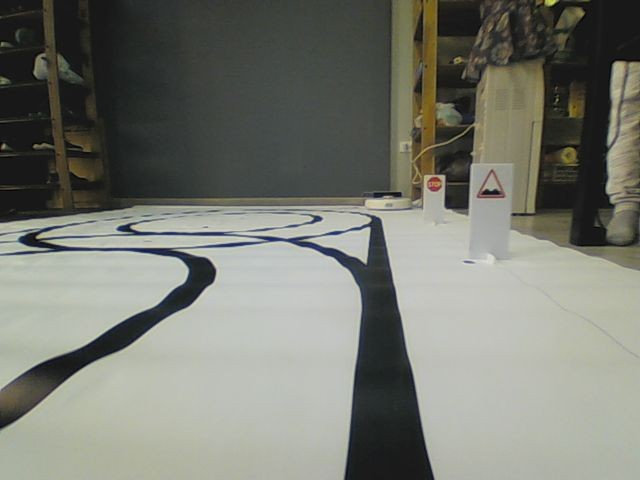Nerov: (476, 167, 506, 198)
Stop: (426, 176, 442, 192)
